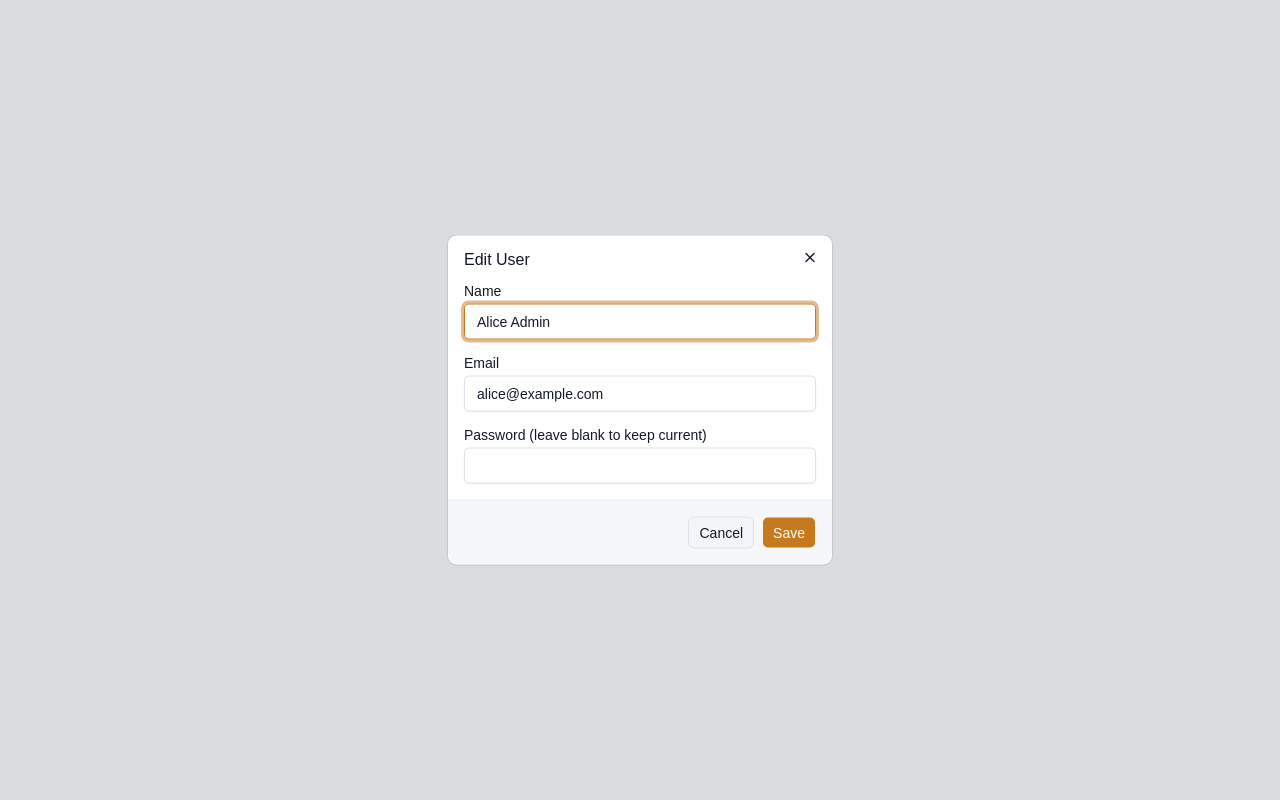
Test case: UserFormDialog — Edit mode › Validation › shows an error when name is fewer than 3 characters
Replace the text in the field labelled "Name" with "ab" at point(640, 322), box 464,304 -> 816,340
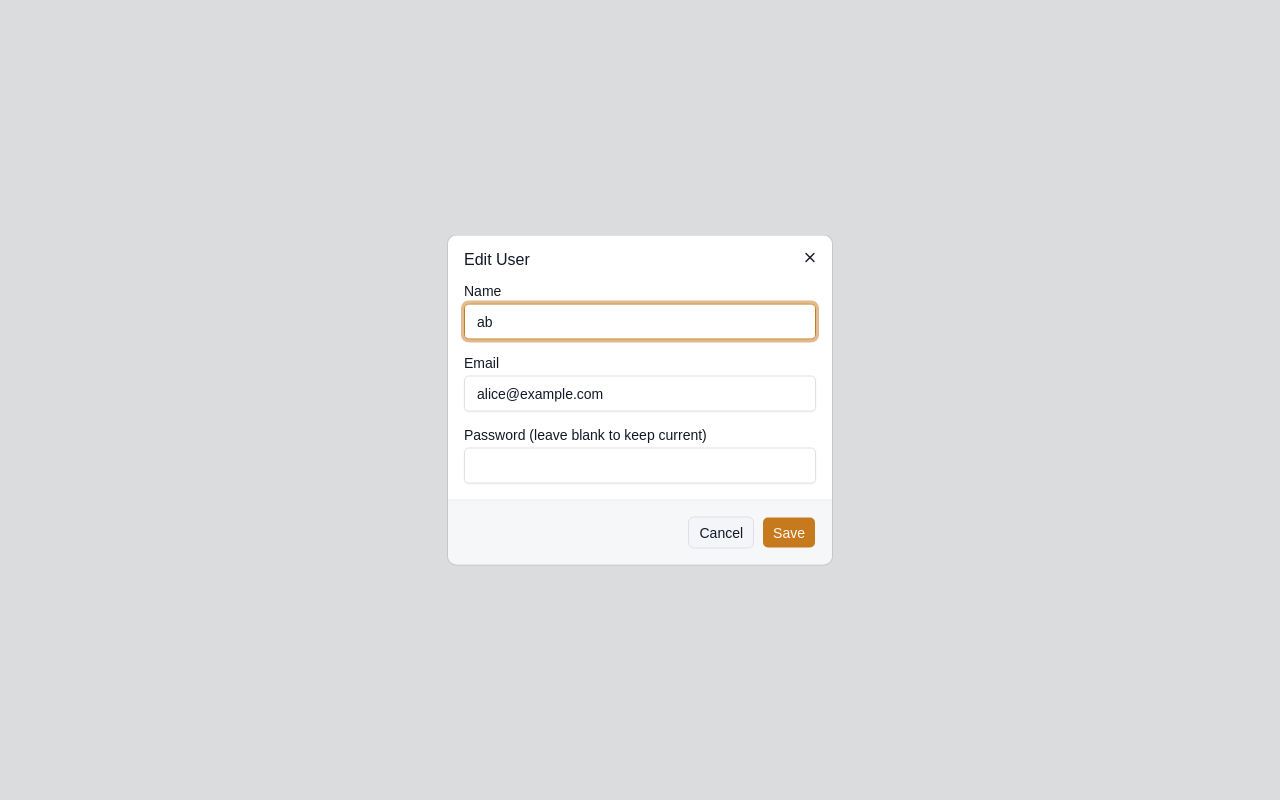
Click the button "Save" at point(789, 532), box 762,516 -> 816,548
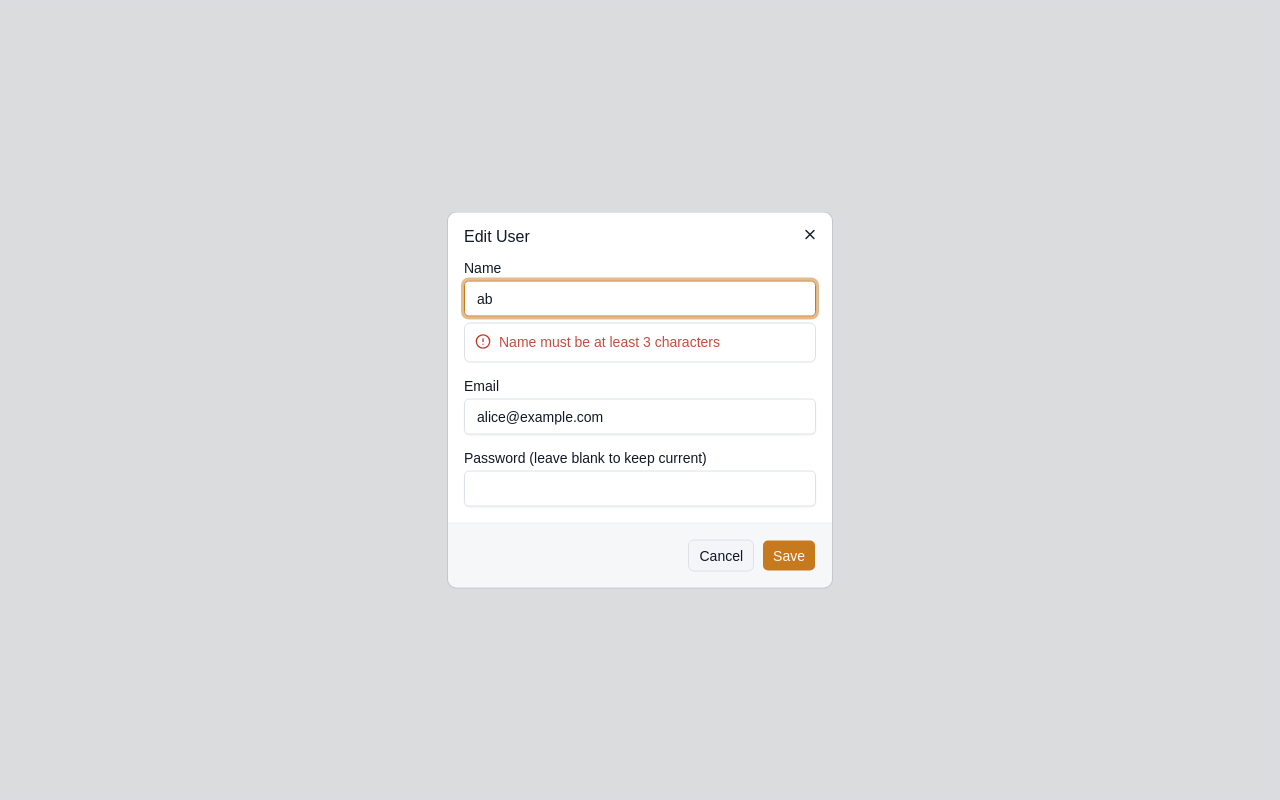
Expected: the text "Name must be at least 3 characters" is shown, 499,334 -> 720,350
